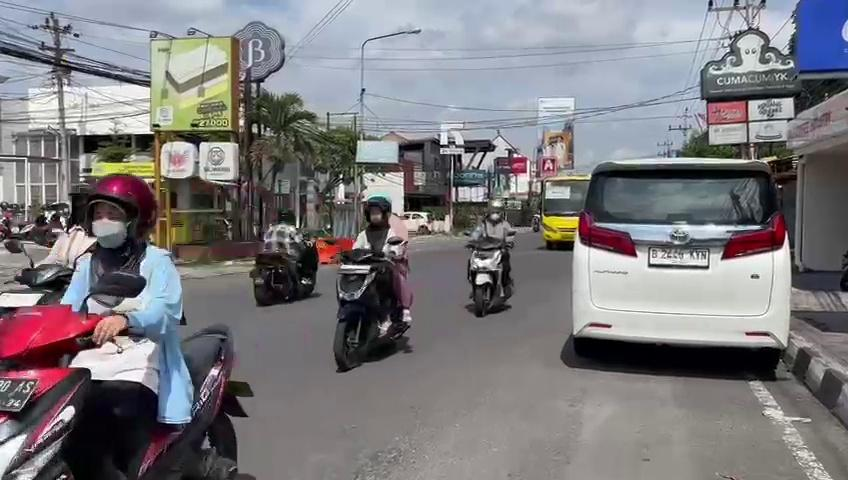helm: (84, 169, 165, 259)
